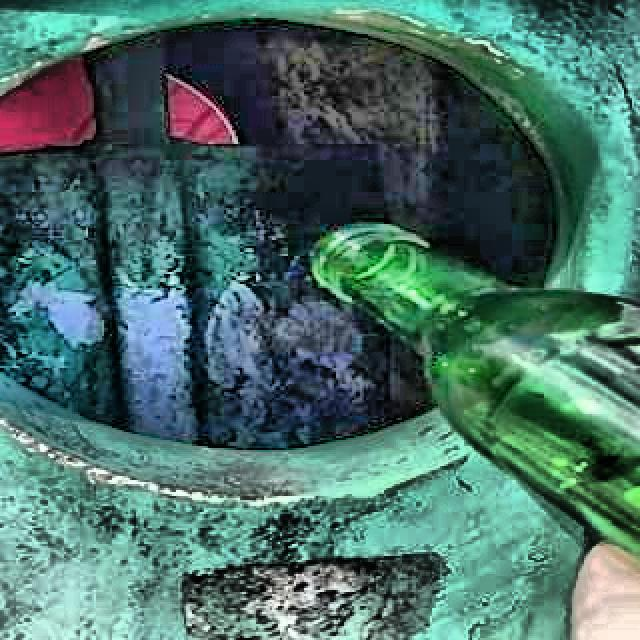glass: (317, 228, 640, 567)
